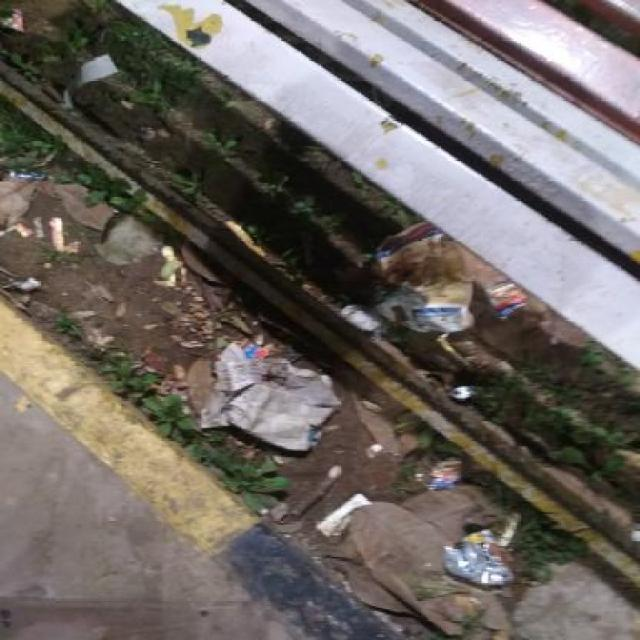garbage: (86, 266, 417, 484), (219, 223, 569, 423), (0, 1, 166, 116), (431, 494, 580, 616), (0, 208, 114, 284)
